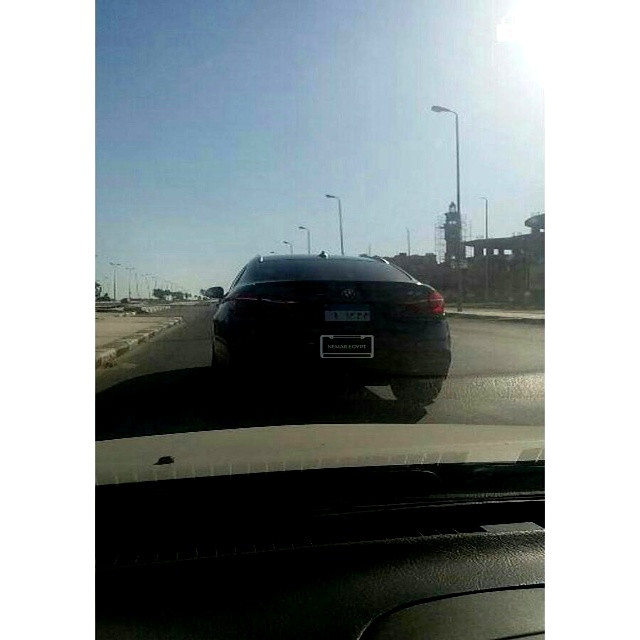License Plate: (320, 301, 375, 323)
